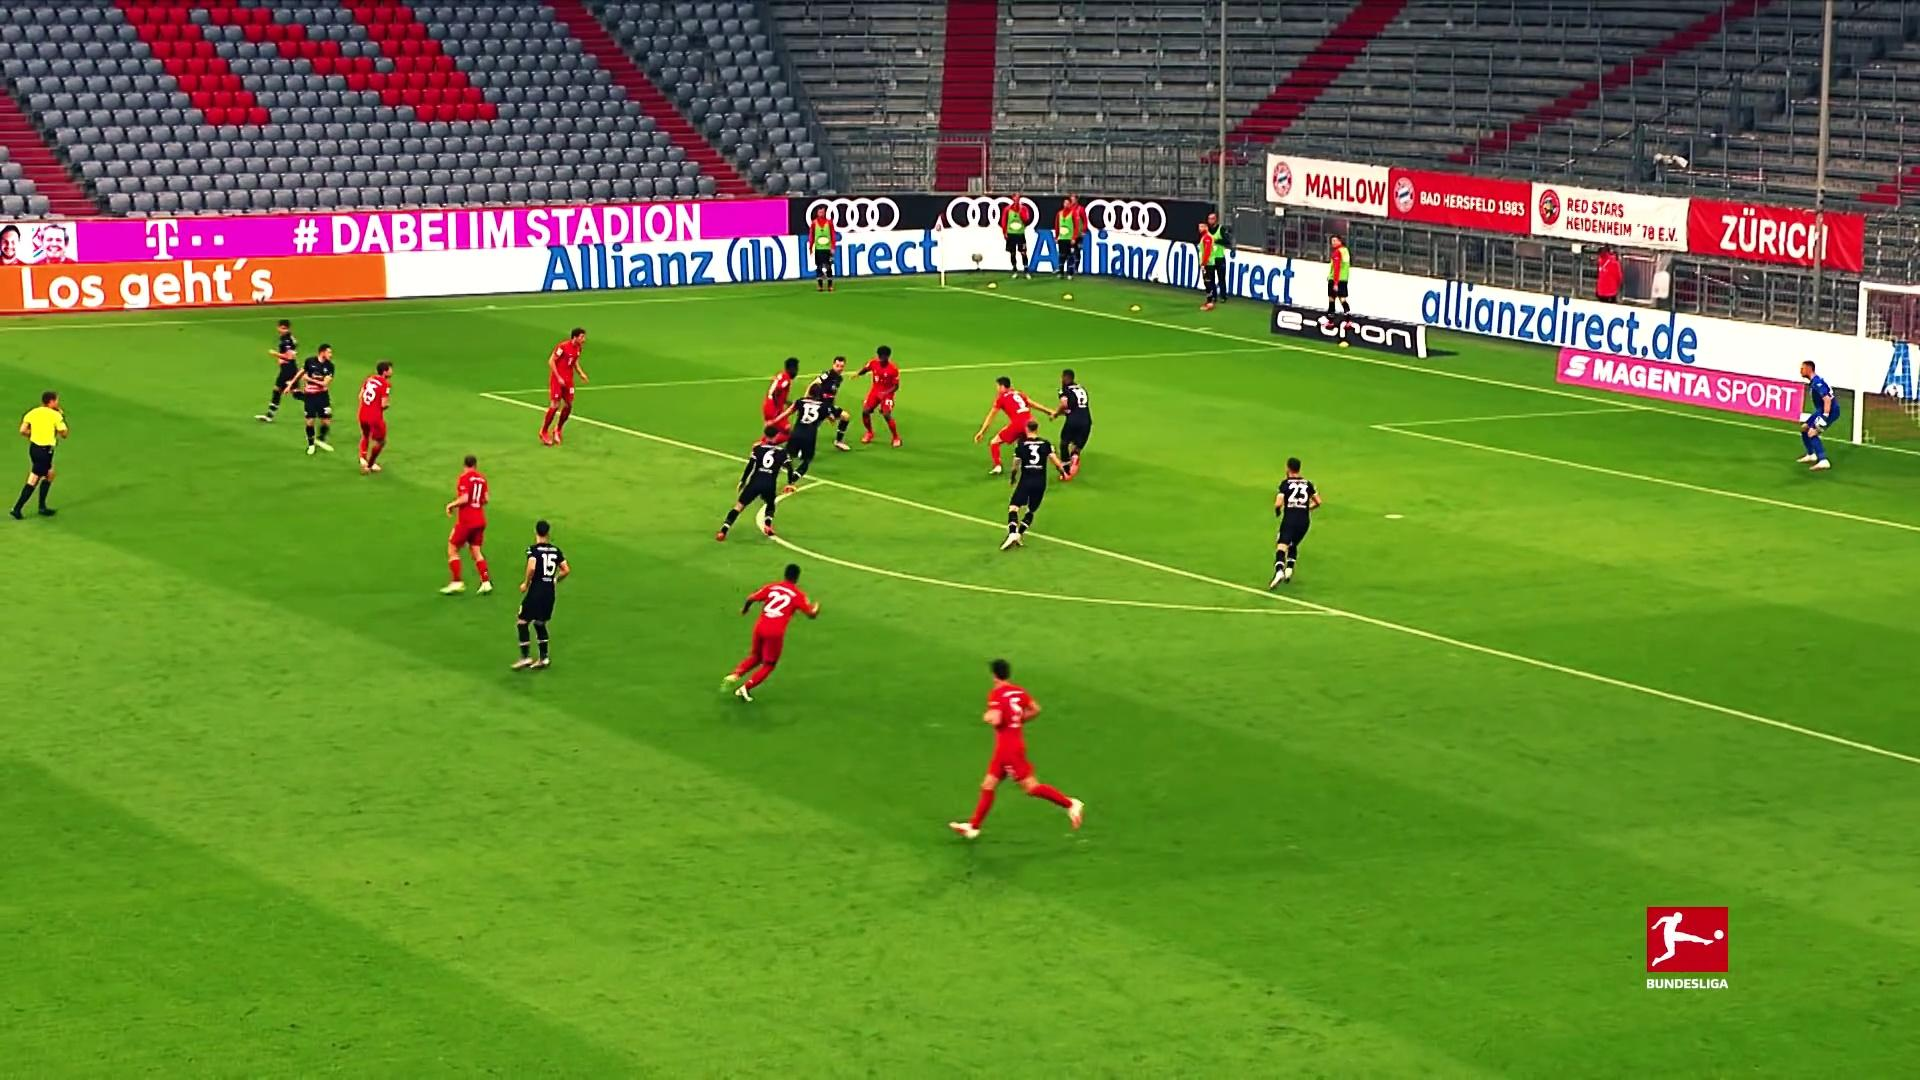goalkeeper: (1790, 357, 1842, 474)
player: (944, 652, 1091, 846), (721, 561, 820, 708), (507, 520, 576, 682), (439, 450, 503, 599), (1000, 421, 1062, 554), (716, 428, 787, 544), (1267, 453, 1326, 590), (761, 374, 825, 492), (1046, 364, 1103, 483), (540, 325, 593, 447), (849, 343, 907, 453), (790, 352, 853, 452), (979, 375, 1050, 458), (255, 315, 308, 426), (754, 355, 804, 472), (353, 357, 401, 477), (291, 342, 340, 459)
referee: (3, 387, 75, 526)
